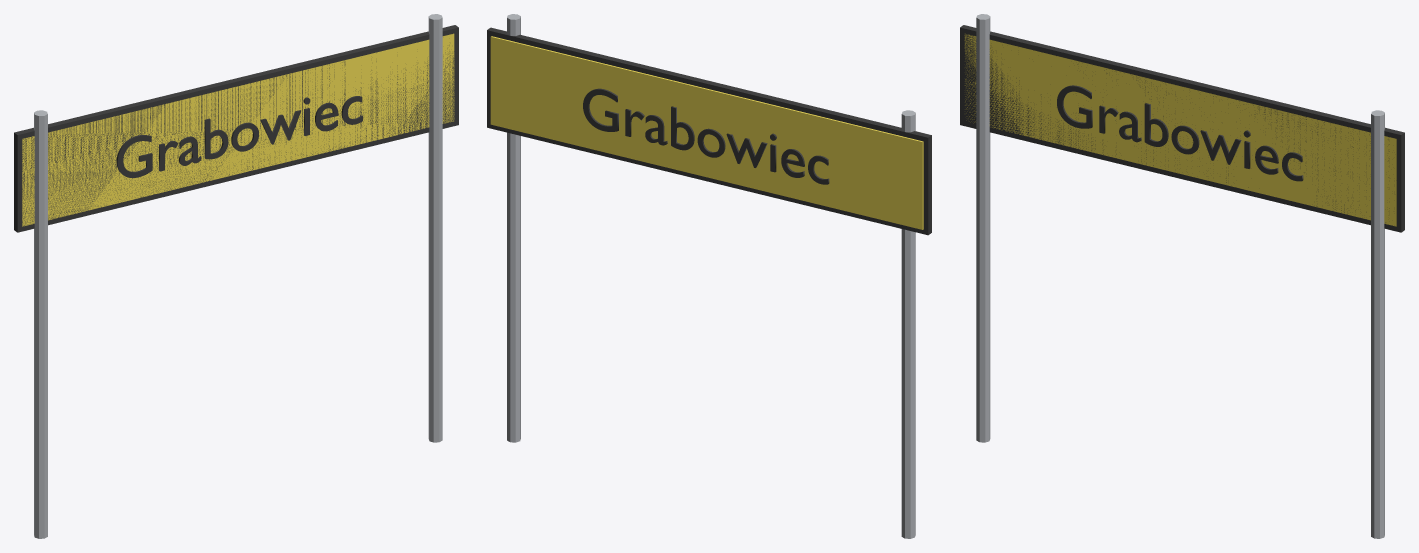
Rendered from Tablica_Grabowiec.fbx.
3 views of the same model, side by side, from view 1: azimuth 30°, elevation 25°; view 2: azimuth 150°, elevation 25°; view 3: azimuth 330°, elevation 25° (orthographic).
Parts seen in each view (by area): view 1: Tablica_Grabowiec; view 2: Tablica_Grabowiec; view 3: Tablica_Grabowiec.
Boxes of the visible parts, x1=… form: Tablica_Grabowiec: x1=14, y1=14, x2=458, y2=538; Tablica_Grabowiec: x1=487, y1=14, x2=931, y2=538; Tablica_Grabowiec: x1=960, y1=14, x2=1404, y2=538.
Size of the model in its own units: 2.84 by 2.6 by 0.108.
